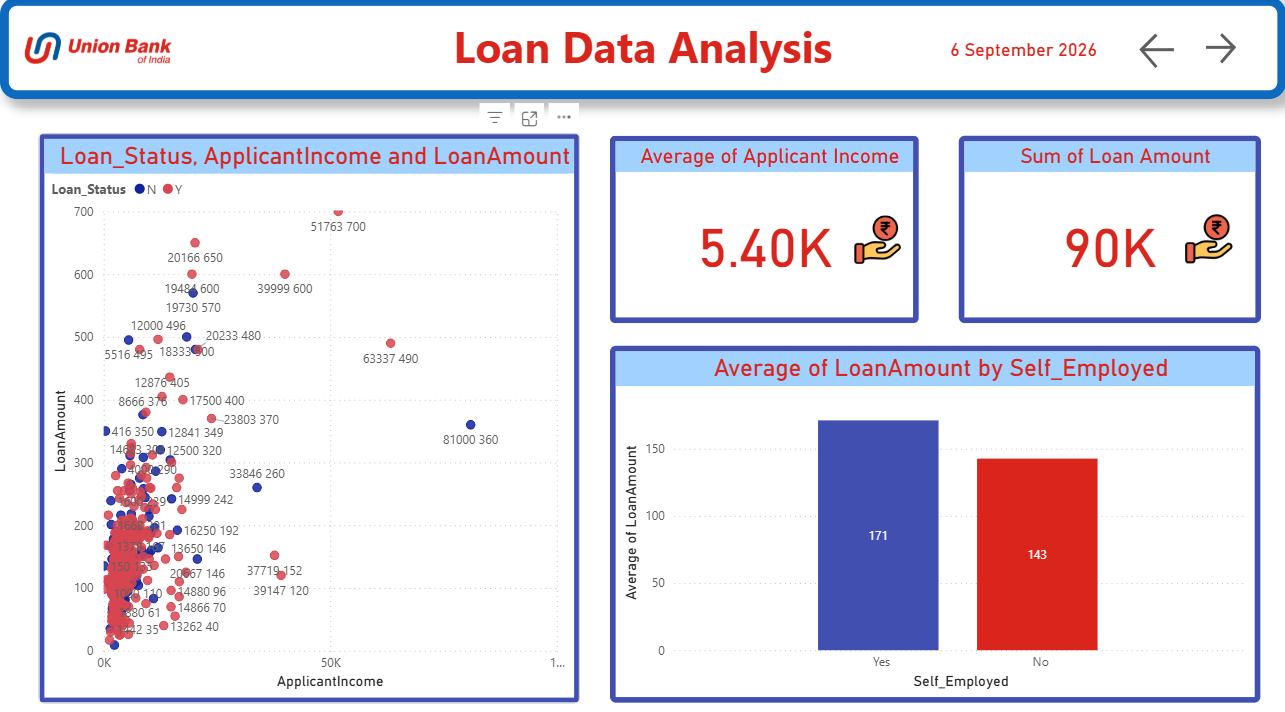

The page's visual inventory and layout, read from the dashboard file:
{"tool":"powerbi","page":{"name":"Income vs Loan Insights","canvas":[1280,720],"ordinal":2},"visuals":[{"type":"textbox","box":[0,0,1280,101.2],"z":0},{"type":"image","box":[20,22.5,156.2,57.5],"z":1000},{"type":"card","title":"Average of Applicant Income","fields":{"Values":["Avg(loan.ApplicantIncome)"]},"box":[607.5,137.5,307.5,186.2],"z":2000},{"type":"card","title":"Sum of Loan Amount","fields":{"Values":["Sum(loan.LoanAmount)"]},"box":[954.1,138.1,301,186.6],"z":3000},{"type":"image","box":[797.5,212.5,152.5,57.5],"z":4000},{"type":"image","box":[1158.8,211.2,87.5,58.8],"z":5000},{"type":"clusteredColumnChart","fields":{"Category":["loan.Self_Employed"],"Y":["Avg(loan.LoanAmount)"]},"box":[607.5,347.5,647.5,355],"z":6000},{"type":"scatterChart","fields":{"Series":["loan.Loan_Status"],"X":["loan.ApplicantIncome"],"Y":["loan.LoanAmount"]},"box":[38.8,135,538.8,567.5],"z":7000},{"type":"actionButton","box":[1193.8,31.2,80,40],"z":8000},{"type":"actionButton","box":[1130,31.2,103.8,45],"z":9000},{"type":"actionButton","box":[7.5,7.5,185,83.8],"z":10000},{"type":"card","fields":{"Values":["loan.Current Date"]},"box":[931.7,13.7,174.2,78.4],"z":11000}]}

Visuals, with their boxes in screenshot pixels (x1, y1, x2, y2), scaled from the page's 1280x720 canvas onto the 1285x712 screenshot:
textbox: 0, 0, 1284, 100
image: 20, 22, 177, 79
"Average of Applicant Income" card: 610, 136, 919, 320
"Sum of Loan Amount" card: 958, 137, 1260, 321
image: 801, 210, 954, 267
image: 1163, 209, 1251, 267
clusteredColumnChart - loan.Self_Employed x Avg(loan.LoanAmount): 610, 344, 1260, 695
scatterChart - loan.Loan_Status x loan.ApplicantIncome: 39, 134, 580, 695
actionButton: 1198, 31, 1279, 70
actionButton: 1134, 31, 1239, 75
actionButton: 8, 7, 193, 90
card - loan.Current Date: 935, 14, 1110, 91
